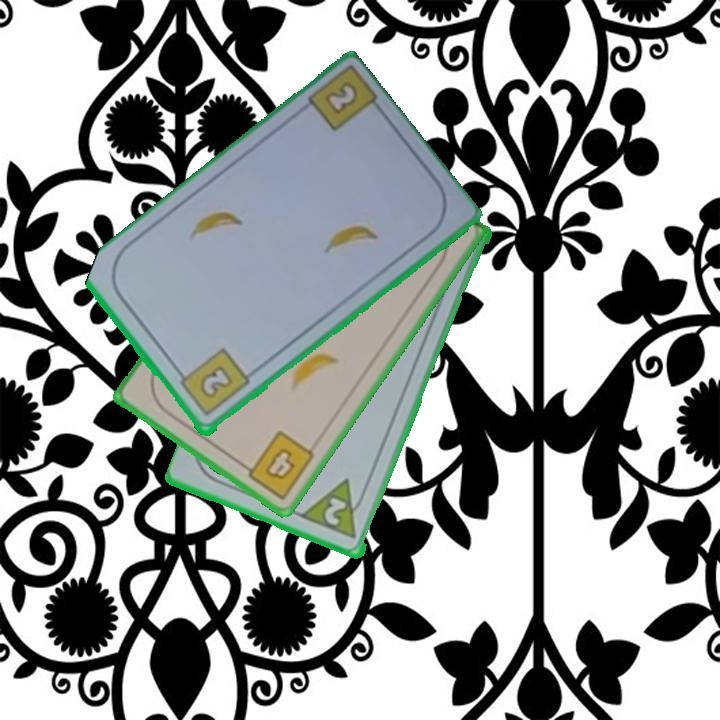2b: (172, 345, 253, 420), (321, 78, 362, 119)
2p: (320, 494, 351, 529)
4b: (236, 427, 318, 503)
